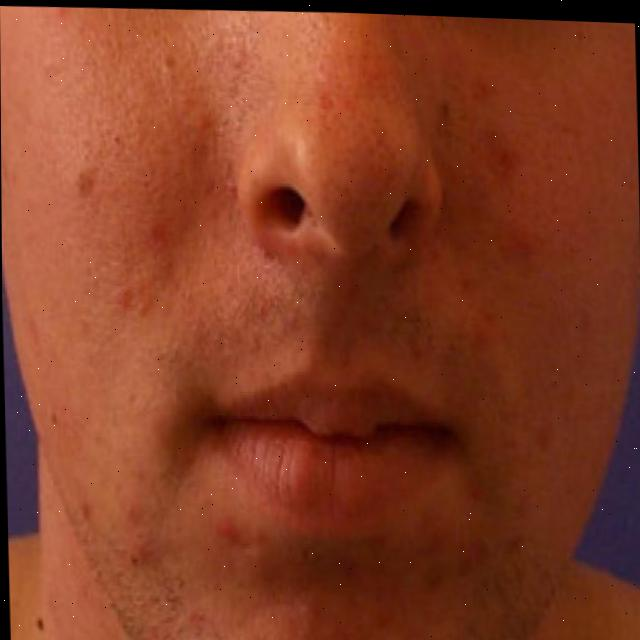Acne: (88, 502, 540, 616)
